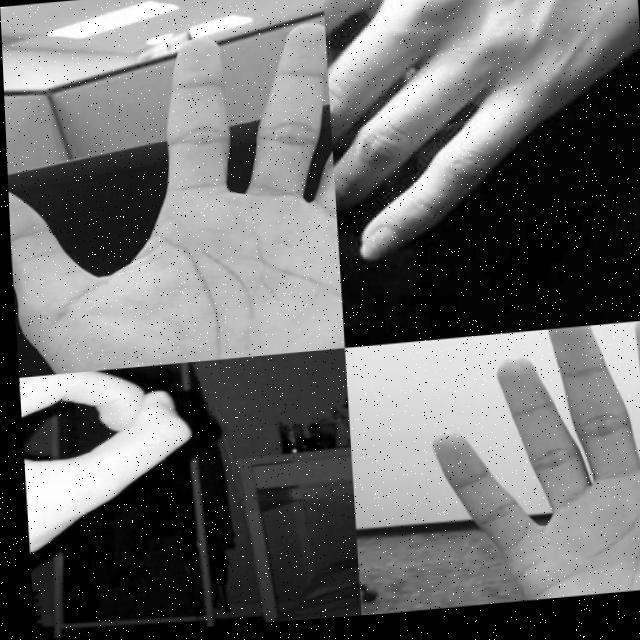no-gloves: (1, 19, 340, 377), (320, 0, 640, 268), (417, 328, 640, 614), (14, 362, 221, 588)
